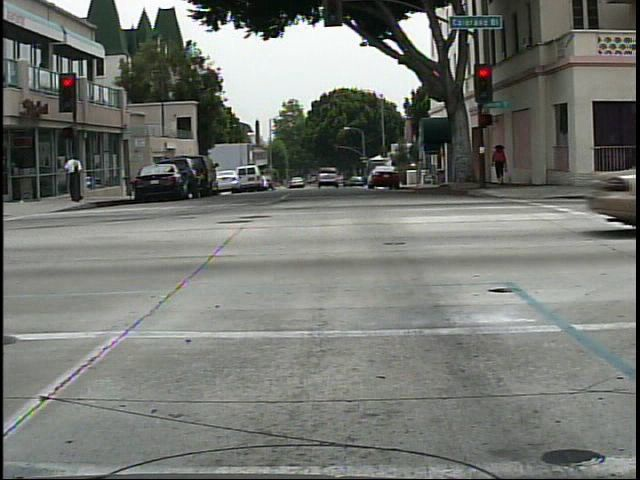person: (58, 143, 87, 205), (490, 137, 513, 187)
